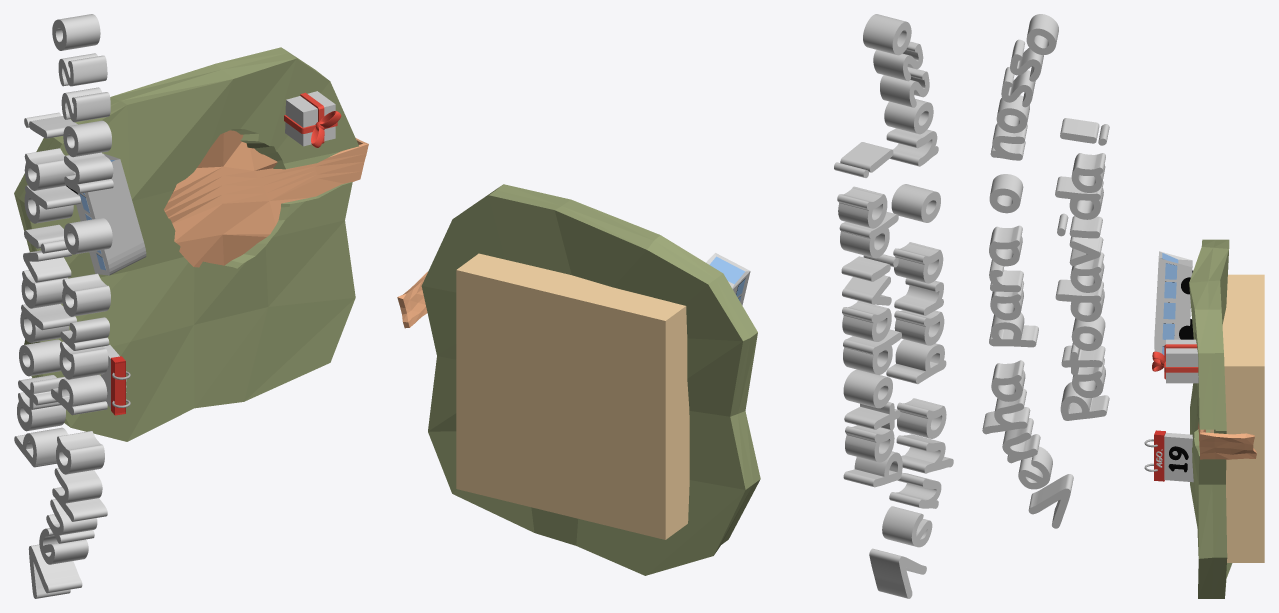
3 renders of one model, left to right at view 1: azimuth 30°, elevation 25°; view 2: azimuth 150°, elevation 25°; view 3: azimuth 270°, elevation 25°, orthographic. The views are drawn at different scales.
Visible parts, largest first — view 1: ground, Title, lake, bus, present, calendar; view 2: base, ground, Title, lake, bus; view 3: Title, ground, base, bus, calendar, present, lake.
Part boxes in pixels (x1,y1,x2,y2): ground: (14,47,358,441); Title: (14,14,113,598); lake: (164,130,368,267); bus: (66,153,146,275); present: (284,91,341,147); calendar: (101,345,130,415); base: (456,253,689,539); ground: (421,184,760,575); Title: (834,14,953,598); lake: (397,271,427,328); bus: (706,253,750,305); Title: (982,14,1109,528); ground: (1189,239,1232,598); base: (1210,274,1264,562); bus: (1154,251,1193,355); calendar: (1144,430,1193,482); present: (1152,339,1198,383); lake: (1197,422,1256,459).
Size of the model in its own units: 7.78 by 10.34 by 5.2.
